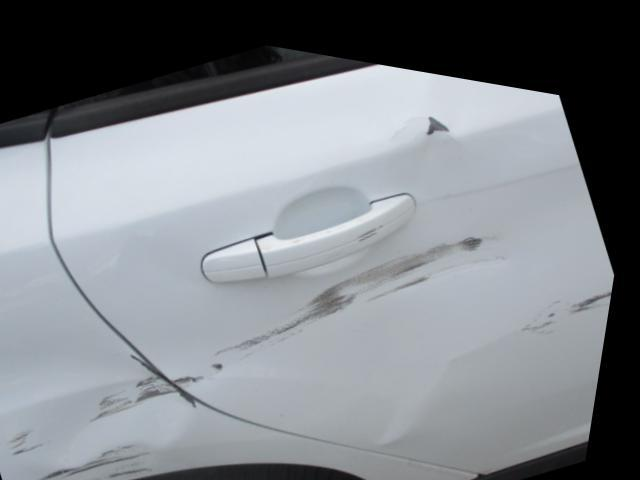dent: (225, 219, 509, 345), (529, 266, 618, 313), (104, 368, 187, 415), (140, 347, 209, 398), (429, 100, 451, 118), (222, 354, 233, 359)
